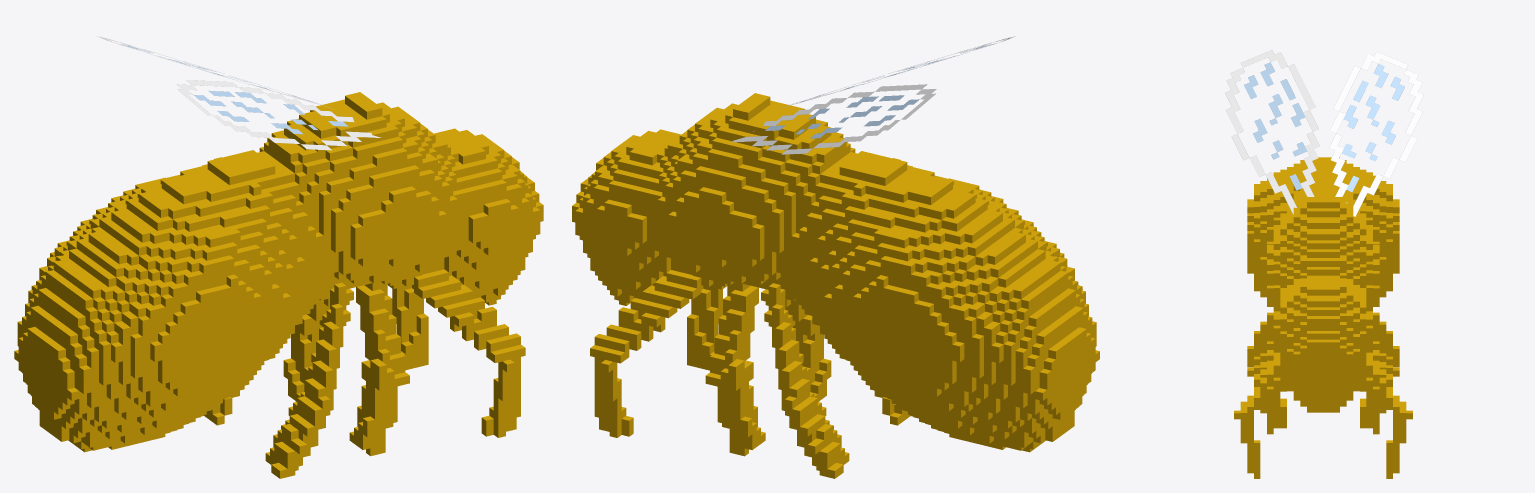
The model's file is bumvle2.fbx.
The picture shows the model from 3 angles, left to right: view 1: azimuth 30°, elevation 25°; view 2: azimuth 150°, elevation 25°; view 3: azimuth 270°, elevation 25°; orthographic projection. The views are drawn at different scales.
Visible parts, largest first — view 1: Cube, New Piskel (1), New Piskel (1).001; view 2: Cube, New Piskel (1).001, New Piskel (1); view 3: Cube, New Piskel (1).001, New Piskel (1).
Part boxes in pixels (x1=…): Cube: x1=14, y1=92, x2=543, y2=478; New Piskel (1): x1=176, y1=80, x2=381, y2=150; New Piskel (1).001: x1=97, y1=36, x2=329, y2=107; Cube: x1=572, y1=93, x2=1099, y2=478; New Piskel (1).001: x1=732, y1=84, x2=936, y2=154; New Piskel (1): x1=779, y1=36, x2=1015, y2=108; Cube: x1=1234, y1=157, x2=1412, y2=478; New Piskel (1).001: x1=1329, y1=52, x2=1423, y2=216; New Piskel (1): x1=1225, y1=50, x2=1319, y2=214.
Size of the model in its own units: 322 by 283 by 303.
3 materials, 2 textured.
